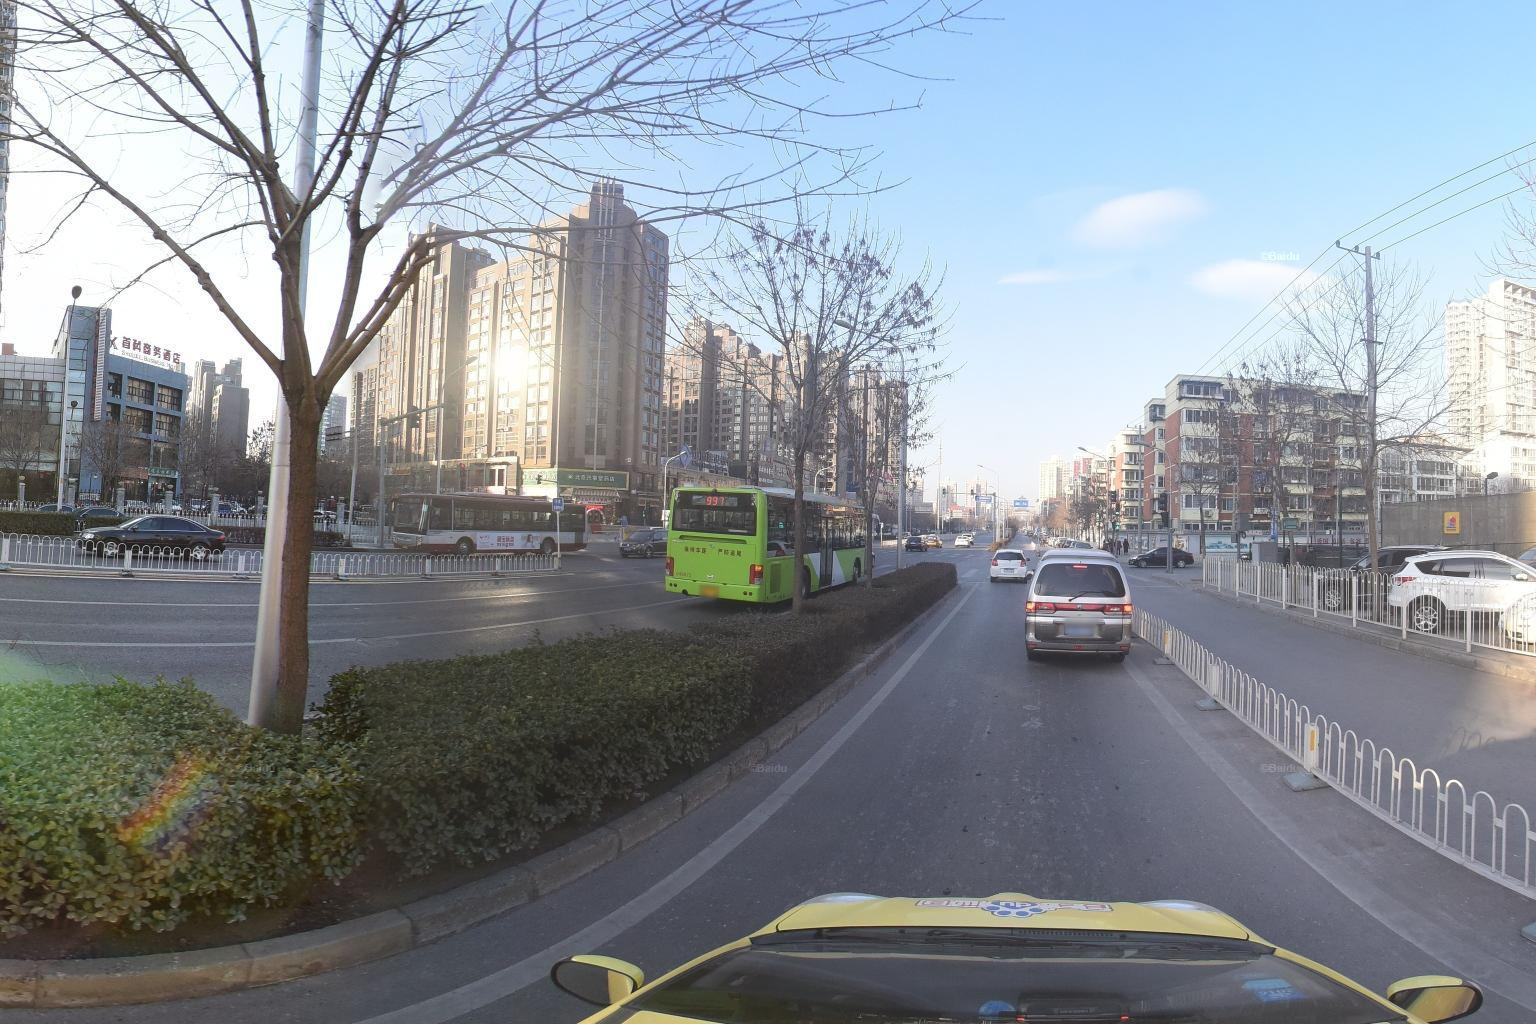person: (767, 565, 842, 762), (857, 543, 920, 687)
